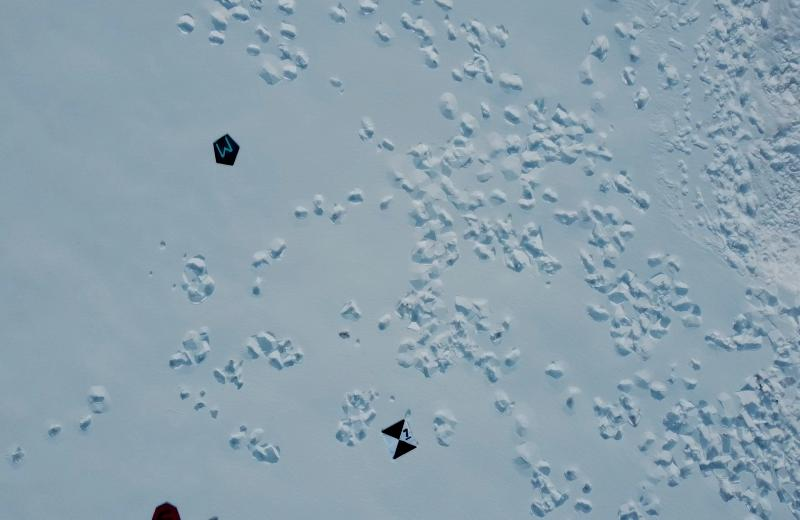Pentagon: (210, 128, 244, 171)
